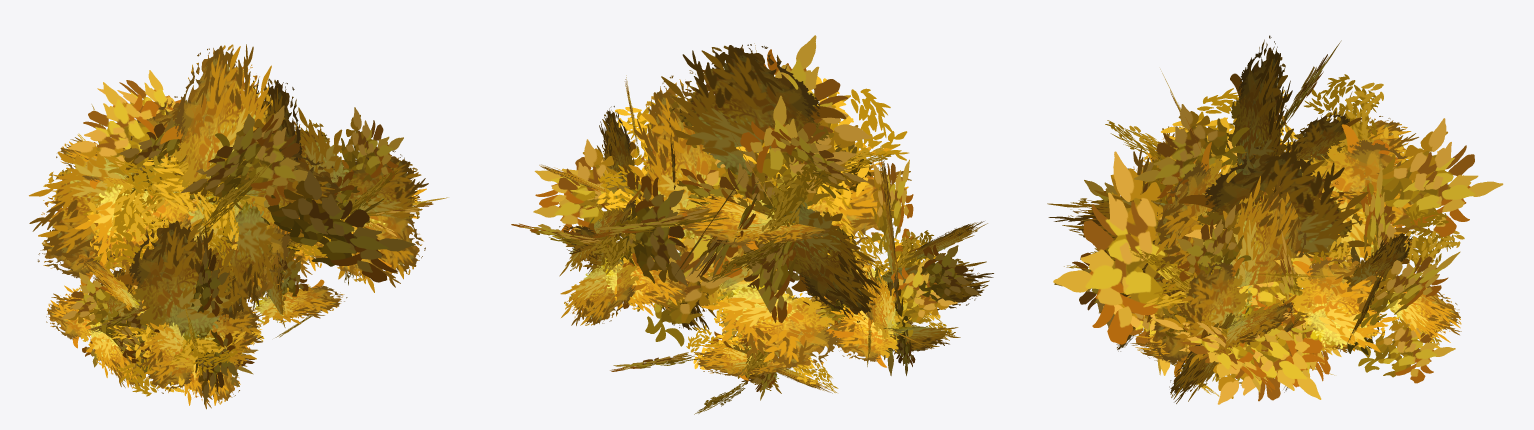
The model's file is yellowbush3.fbx.
The picture shows the model from 3 angles, left to right: view 1: azimuth 30°, elevation 25°; view 2: azimuth 150°, elevation 25°; view 3: azimuth 270°, elevation 25°; orthographic projection. The views are drawn at different scales.
Parts seen in each view (by area): view 1: purpletree:polySurface166; view 2: purpletree:polySurface166; view 3: purpletree:polySurface166.
Boxes of the visible parts, bbox=[...] form: purpletree:polySurface166: bbox=[29, 44, 448, 409]; purpletree:polySurface166: bbox=[511, 35, 993, 414]; purpletree:polySurface166: bbox=[1047, 35, 1503, 404].
Bounding box in the file's own units: 16.76 × 13.56 × 15.
